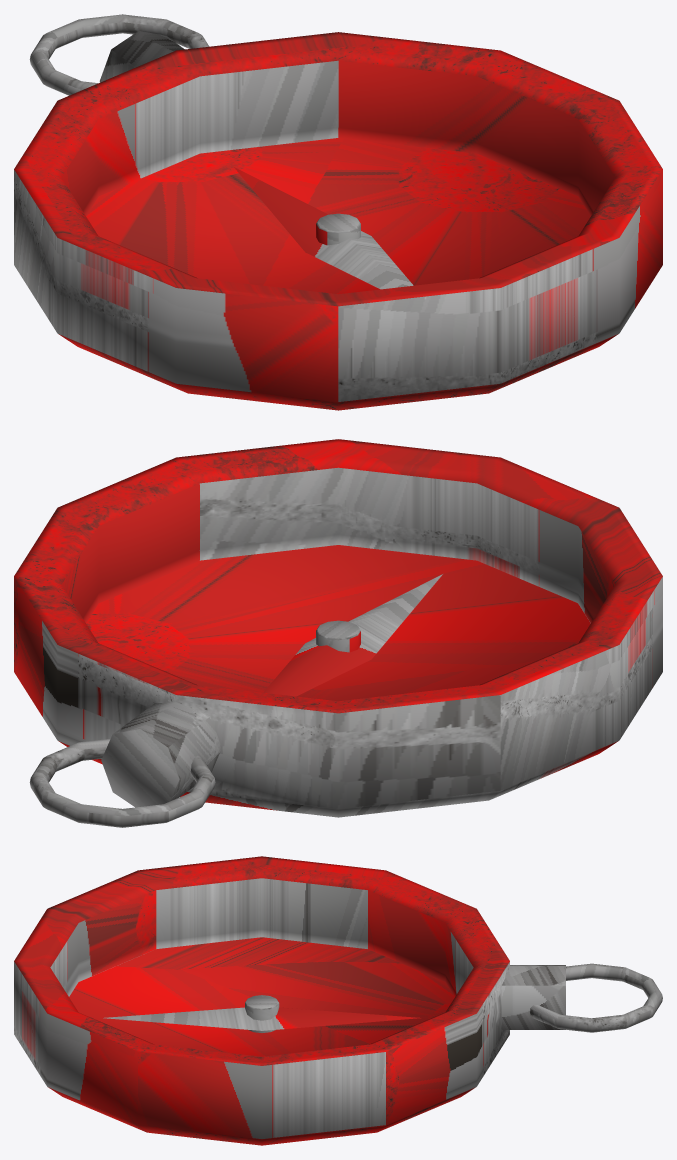
Rendered from Compass1.fbx.
3 views of the same model, one above another, from view 1: azimuth 30°, elevation 25°; view 2: azimuth 150°, elevation 25°; view 3: azimuth 270°, elevation 25° (orthographic). The views are drawn at different scales.
Parts seen in each view (by area): view 1: Circle; view 2: Circle; view 3: Circle.
Part boxes in pixels (left/top/right/bottom): Circle: left=14, top=14, right=662, bottom=410; Circle: left=14, top=439, right=662, bottom=827; Circle: left=14, top=856, right=662, bottom=1145.
Bounding box in the file's own units: 28.66 × 5.56 × 37.49.
